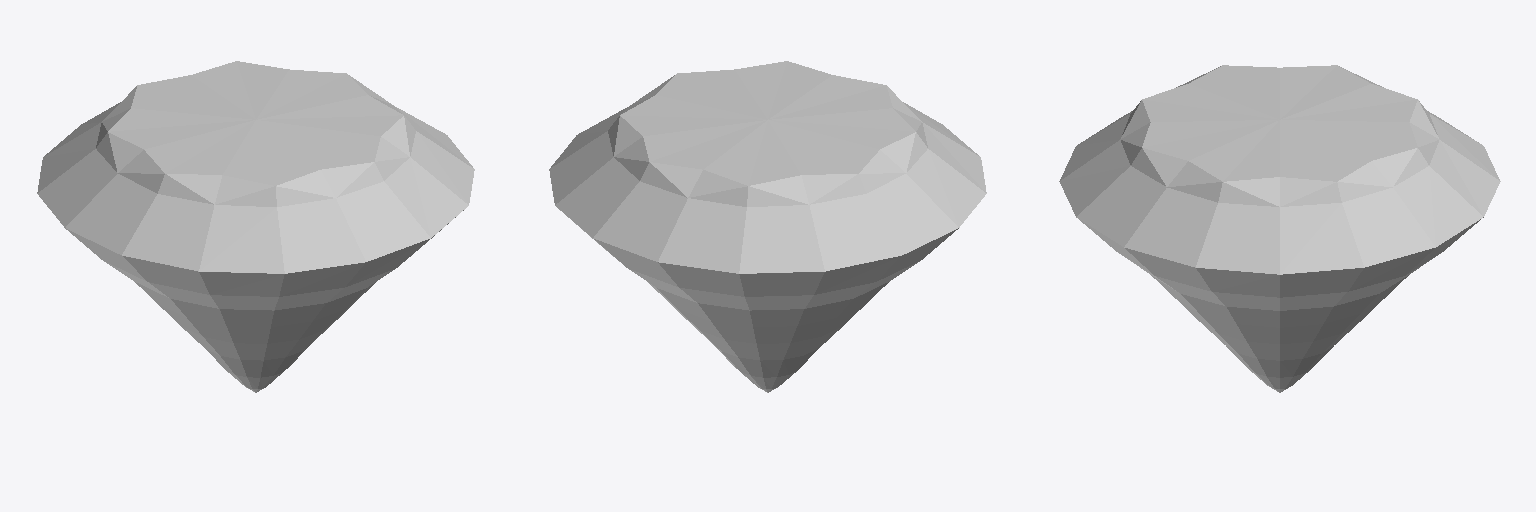
File: jewel.obj
The picture shows the model from 3 angles: view 1: azimuth 30°, elevation 25°; view 2: azimuth 150°, elevation 25°; view 3: azimuth 270°, elevation 25°; orthographic projection.
Visible parts, largest first — view 1: Cylinder; view 2: Cylinder; view 3: Cylinder.
Part boxes in pixels (x1,y1,x2,y2): Cylinder: (37, 61, 474, 392); Cylinder: (549, 61, 986, 392); Cylinder: (1059, 65, 1500, 392).
Size of the model in its own units: 1.77 by 1.21 by 1.77.